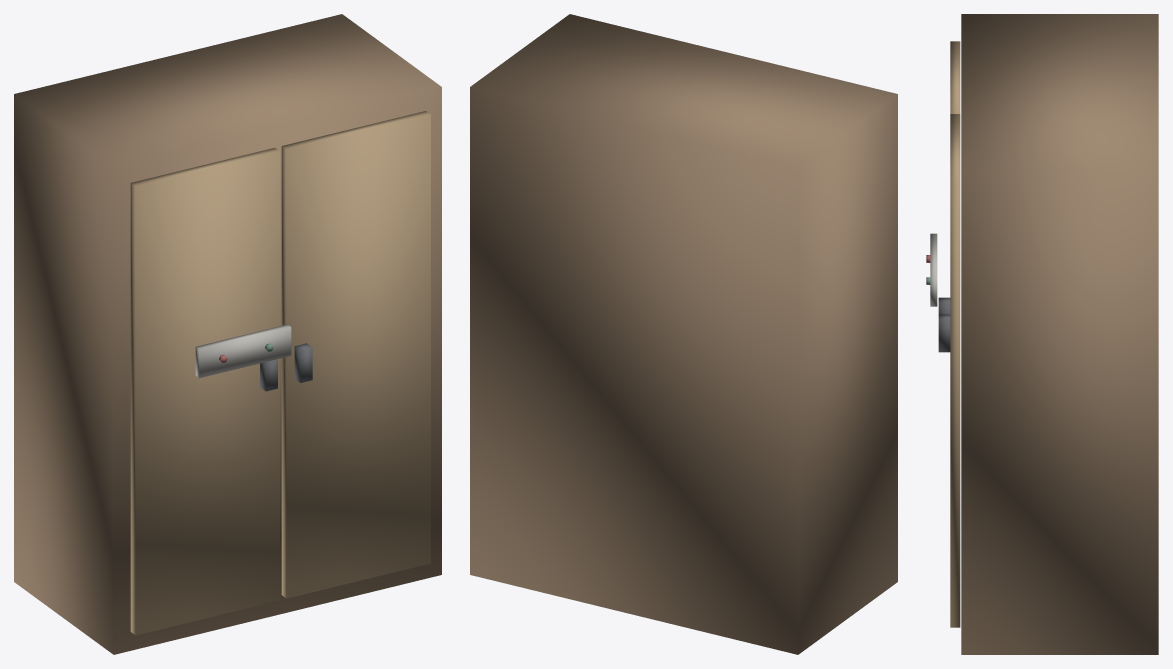
The model's file is typesetter_drawer_cabinet.glb.
3 renders of one model, left to right at view 1: azimuth 30°, elevation 25°; view 2: azimuth 150°, elevation 25°; view 3: azimuth 270°, elevation 25°, orthographic.
Parts seen in each view (by area): view 1: world; view 2: world; view 3: world.
Boxes of the visible parts, x1,y1,x2,y2 form: world: (14, 14, 441, 654); world: (470, 14, 897, 654); world: (926, 14, 1158, 654).
Bounding box in the file's own units: 0.95 × 1.35 × 0.5885.
